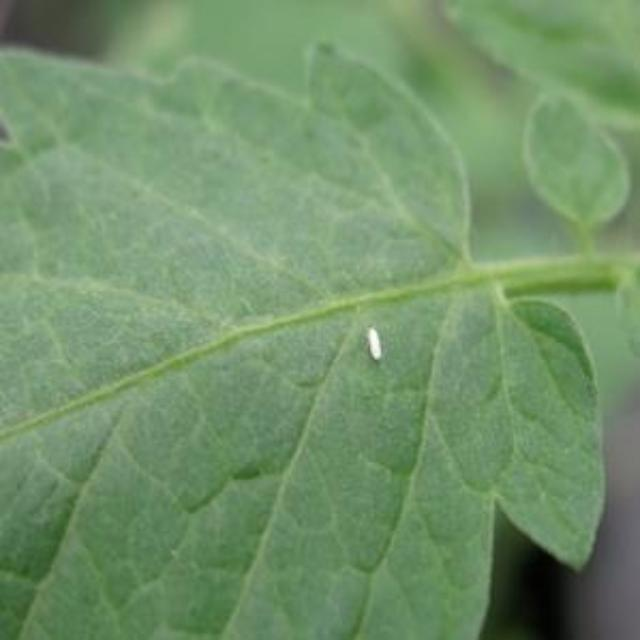Silverleaf whitefly: (336, 296, 428, 396)
